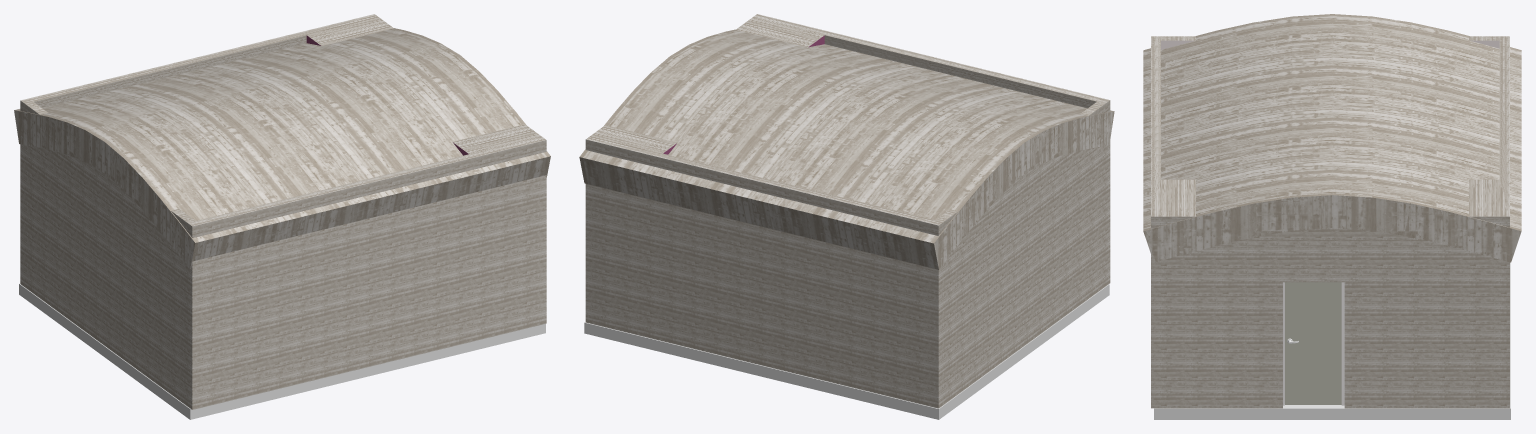
Rendered from FloorPlan219_physics.fbx.
3 renders of one model, left to right at view 1: azimuth 30°, elevation 25°; view 2: azimuth 150°, elevation 25°; view 3: azimuth 270°, elevation 25°, orthographic. The views are drawn at different scales.
Parts seen in each view (by area): view 1: FP219:Room.015, FP219:Floor.007, FP219:Floor.006; view 2: FP219:Room.015, FP219:Floor.007, FP219:Floor.006; view 3: FP219:Floor.007, FP219:Room.015, FP219:Door.011, FP219:Floor.006, FP219:DoorFrame.008.
Boxes of the visible parts, x1,y1,x2,y2 form: FP219:Room.015: (20, 14, 546, 409); FP219:Floor.007: (14, 28, 550, 269); FP219:Floor.006: (19, 283, 545, 419); FP219:Room.015: (585, 14, 1110, 408); FP219:Floor.007: (579, 29, 1114, 269); FP219:Floor.006: (584, 284, 1109, 419); FP219:Floor.007: (1143, 14, 1521, 262); FP219:Room.015: (1151, 36, 1509, 408); FP219:Door.011: (1285, 282, 1341, 404); FP219:Floor.006: (1154, 262, 1510, 419); FP219:DoorFrame.008: (1283, 282, 1344, 405).
Bounding box in the file's own units: 632 × 366 × 558.
